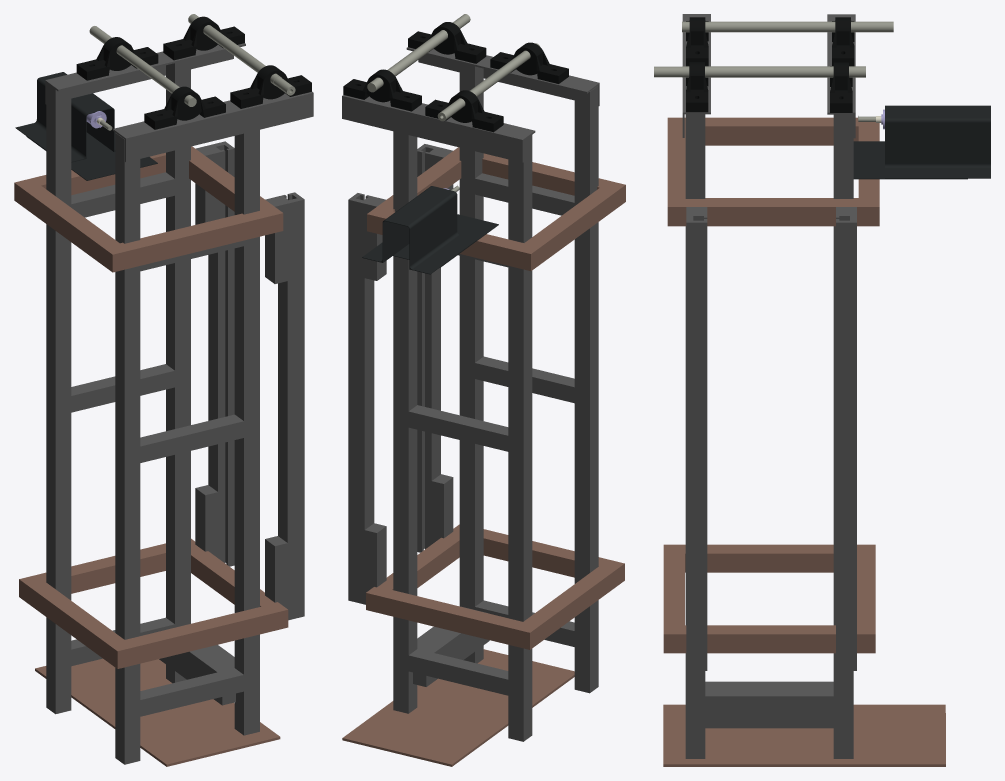
The model's file is Elevator.glb.
The picture shows the model from 3 angles, left to right: view 1: azimuth 30°, elevation 25°; view 2: azimuth 150°, elevation 25°; view 3: azimuth 270°, elevation 25°; orthographic projection. The views are drawn at different scales.
Parts seen in each view (by area): view 1: node0, node20, node2, node1, node19, node13, node3, node11, node4, node23, PillowBlock1, PillowBlock2 (+5 smaller); view 2: node0, node19, node2, node13, node1, node20, node11, node4, node3, node23, PillowBlock3, PillowBlock4 (+5 smaller); view 3: node13, node2, node1, node20, node19, node0, node11, node23, Shaft1, node25, node10, PillowBlock2 (+5 smaller).
Boxes of the visible parts, bbox=[...] form: node0: bbox=[46, 59, 259, 764]; node20: bbox=[265, 192, 304, 620]; node2: bbox=[19, 538, 288, 668]; node1: bbox=[14, 146, 283, 272]; node19: bbox=[195, 141, 234, 566]; node13: bbox=[35, 658, 280, 766]; node3: bbox=[113, 91, 313, 162]; node11: bbox=[15, 72, 115, 162]; node4: bbox=[45, 43, 245, 104]; node23: bbox=[159, 644, 235, 705]; PillowBlock1: bbox=[144, 86, 225, 129]; PillowBlock2: bbox=[230, 65, 311, 108]; node0: bbox=[393, 63, 598, 741]; node19: bbox=[348, 193, 386, 604]; node2: bbox=[366, 524, 624, 649]; node13: bbox=[342, 649, 574, 766]; node1: bbox=[367, 147, 625, 271]; node20: bbox=[417, 144, 453, 552]; node11: bbox=[362, 186, 477, 274]; node4: bbox=[342, 95, 535, 162]; node3: bbox=[406, 47, 599, 105]; node23: bbox=[413, 606, 489, 686]; PillowBlock3: bbox=[343, 69, 421, 111]; PillowBlock4: bbox=[425, 90, 503, 132]; node13: bbox=[663, 704, 945, 766]; node2: bbox=[663, 544, 875, 653]; node1: bbox=[667, 117, 879, 226]; node20: bbox=[686, 207, 707, 670]; node19: bbox=[836, 207, 856, 670]; node0: bbox=[685, 114, 853, 758]; node11: bbox=[885, 105, 990, 178]; node23: bbox=[705, 681, 833, 728]; Shaft1: bbox=[682, 21, 893, 32]; node25: bbox=[682, 66, 865, 77]; node10: bbox=[853, 141, 967, 179]; PillowBlock2: bbox=[686, 62, 708, 112].
Size of the model in its own units: 0.3655 by 1.1 by 0.4768.
